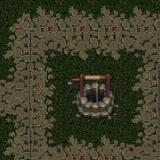Hide: (56, 58, 133, 136)
